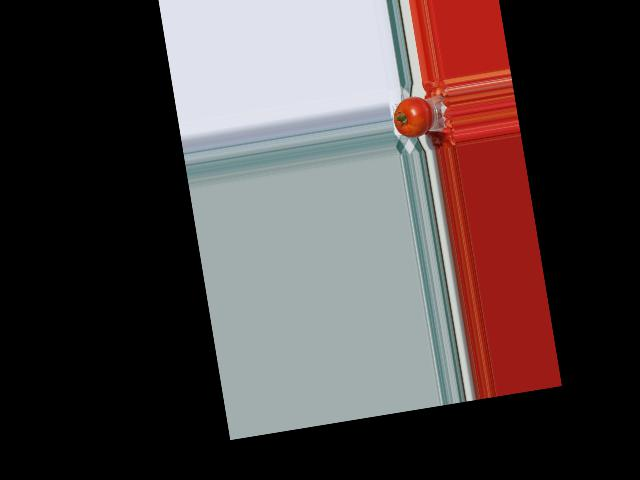tomato: (390, 93, 435, 140)
